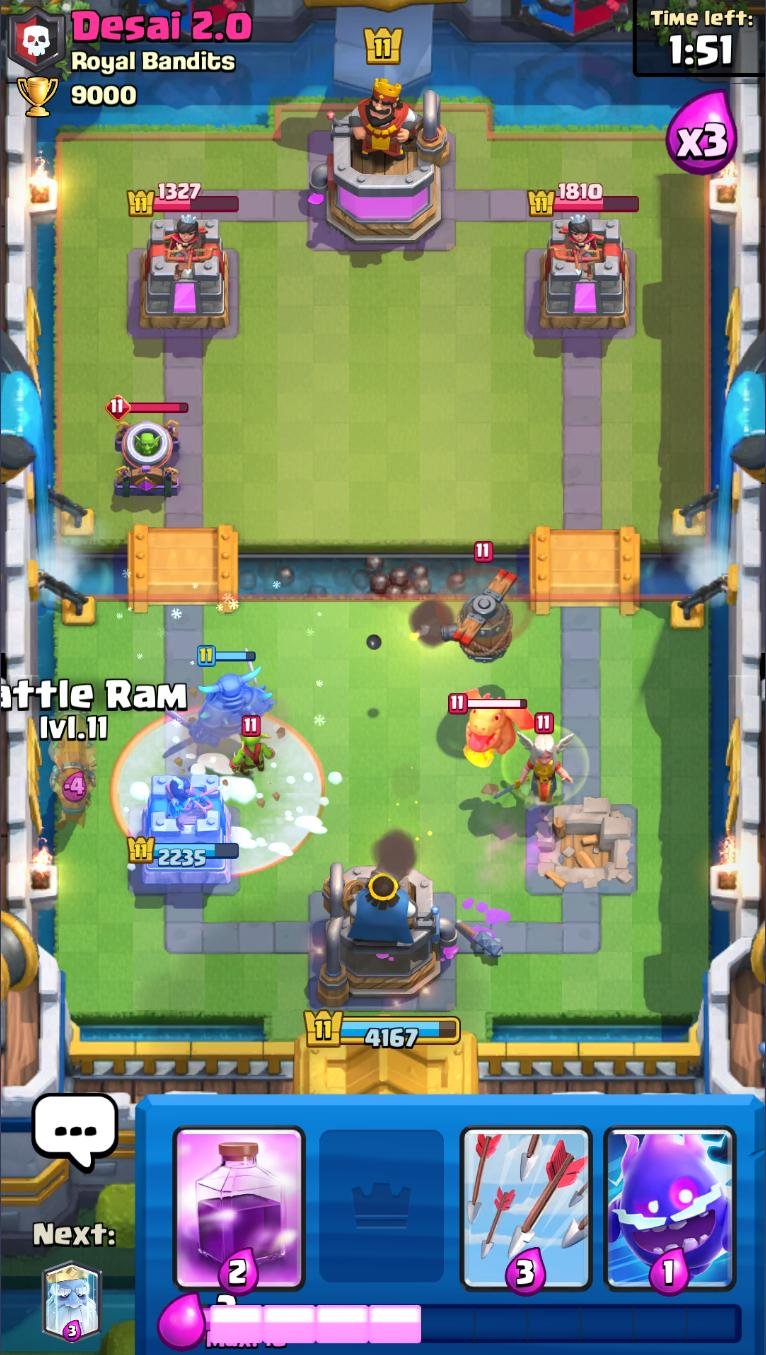ArrowDeck: (455, 1099, 598, 1295)
BabyDragon: (448, 688, 536, 757)
BattleRamNext: (41, 1262, 105, 1343)
ElectroSpiritDeck: (597, 1097, 742, 1298)
Elixir: (203, 1296, 744, 1351)
Empty: (310, 1095, 451, 1290)
EnemyTower: (135, 216, 234, 331), (537, 216, 633, 333)
EvoMortar: (104, 393, 189, 499)
FlyingMachine: (442, 539, 537, 668)
Freeze: (108, 705, 327, 876)
Goblin: (229, 716, 276, 774)
Healer: (503, 714, 591, 808)
KingTower: (307, 78, 453, 247)
MyKingTower: (315, 859, 460, 1009)
MyPekka: (161, 650, 281, 750)
MyPrincessTower: (128, 772, 242, 890)
MyPrincessTowerBrocken: (526, 798, 641, 900)
MyPrincessTowerHP: (127, 836, 241, 869)
RageDeck: (166, 1096, 312, 1295)
TowerPrincessHP: (528, 182, 640, 219), (128, 182, 241, 218)
